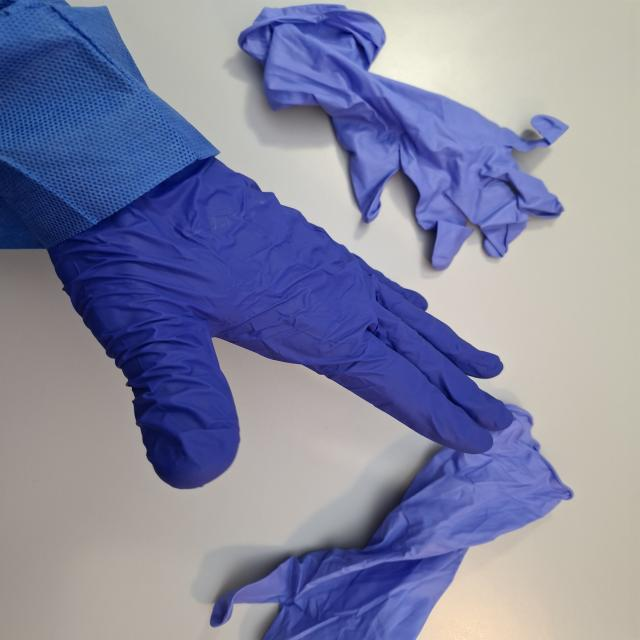glove_on: (39, 146, 518, 491)
